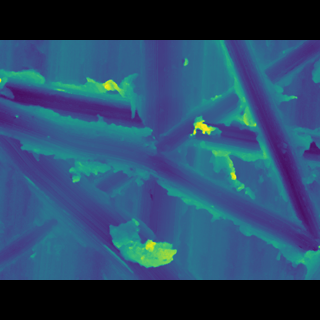Loch: (1, 121, 319, 232), (0, 143, 207, 249), (218, 70, 320, 219), (0, 95, 147, 135)
